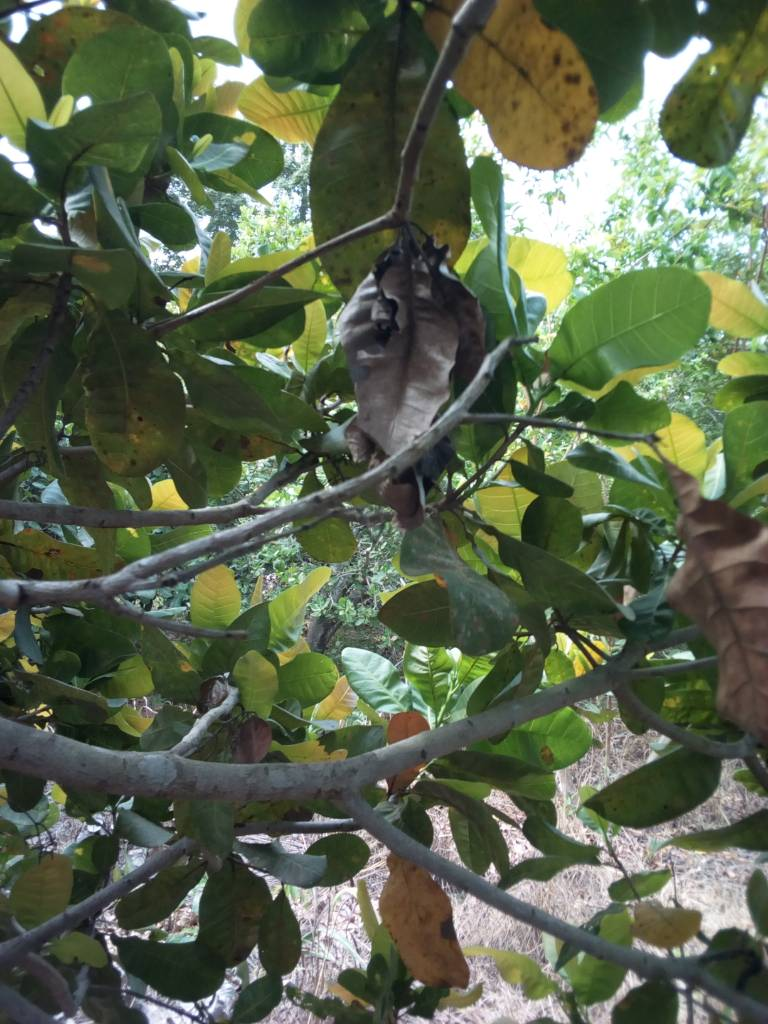Anthracnose: (441, 3, 596, 169), (83, 311, 188, 478), (658, 21, 766, 174)
